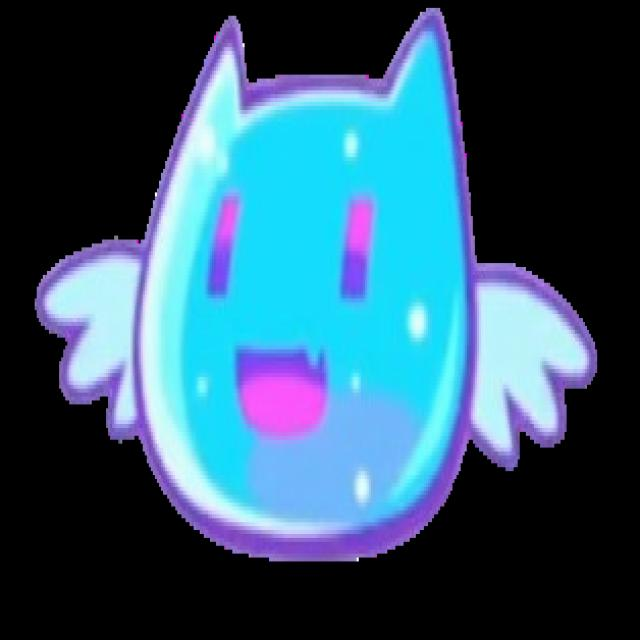Sky Monster - Blue Devil: (33, 3, 597, 566)
